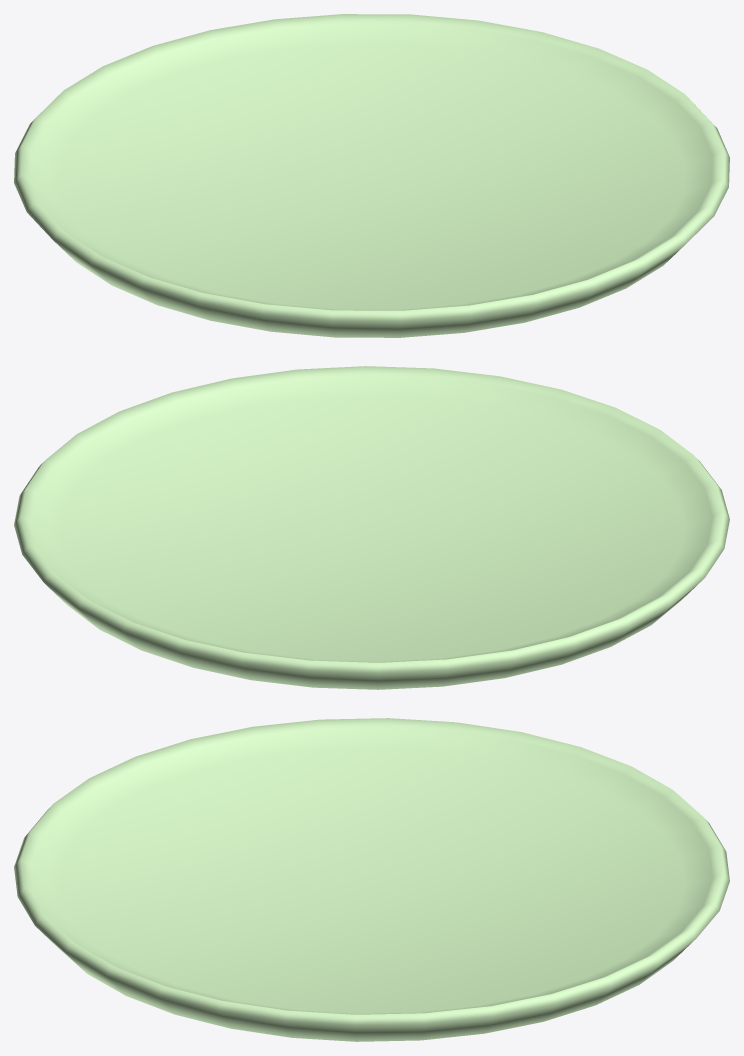
Rendered from Plate.fbx.
3 renders of one model, top to bottom at view 1: azimuth 30°, elevation 25°; view 2: azimuth 150°, elevation 25°; view 3: azimuth 270°, elevation 25°, orthographic.
Visible parts, largest first — view 1: Plate; view 2: Plate; view 3: Plate.
Boxes of the visible parts, <box> form: Plate: <box>14,14,729,337</box>; Plate: <box>14,366,729,689</box>; Plate: <box>14,718,729,1041</box>.
Size of the model in its own units: 56.56 by 3.07 by 56.56.
